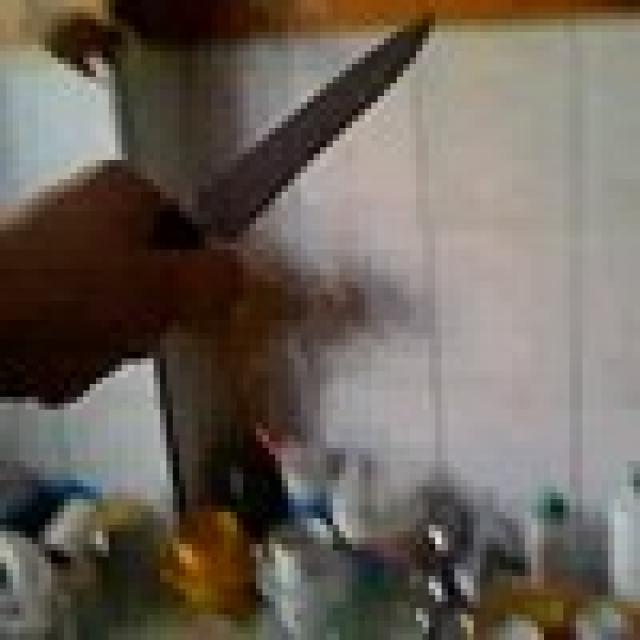Knife: (179, 0, 435, 269)
